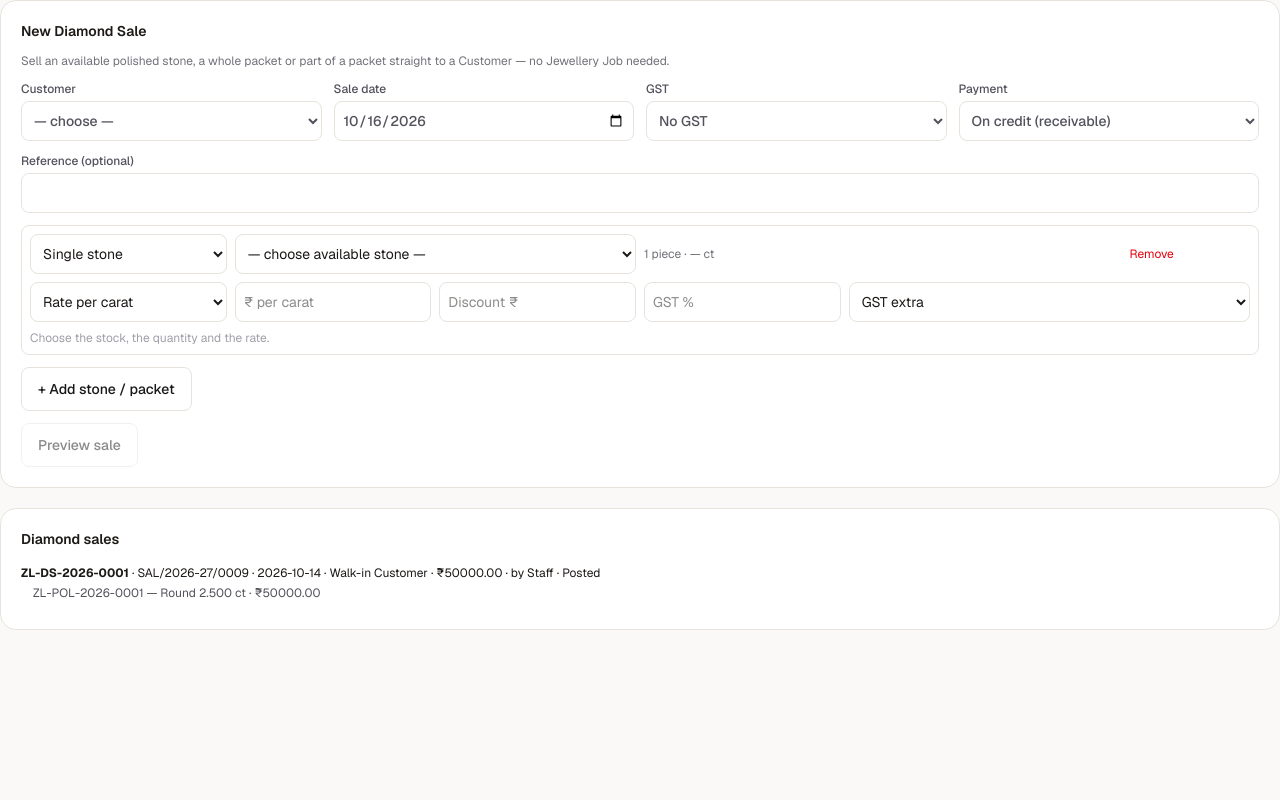
it: Diamond Sales tab › a marketplace Customer disables Paid now and asks for the clearing currency
Select "Etsy (marketplace)" in the dropdown with test id "ds-customer": (171, 121) [21, 101, 322, 141]
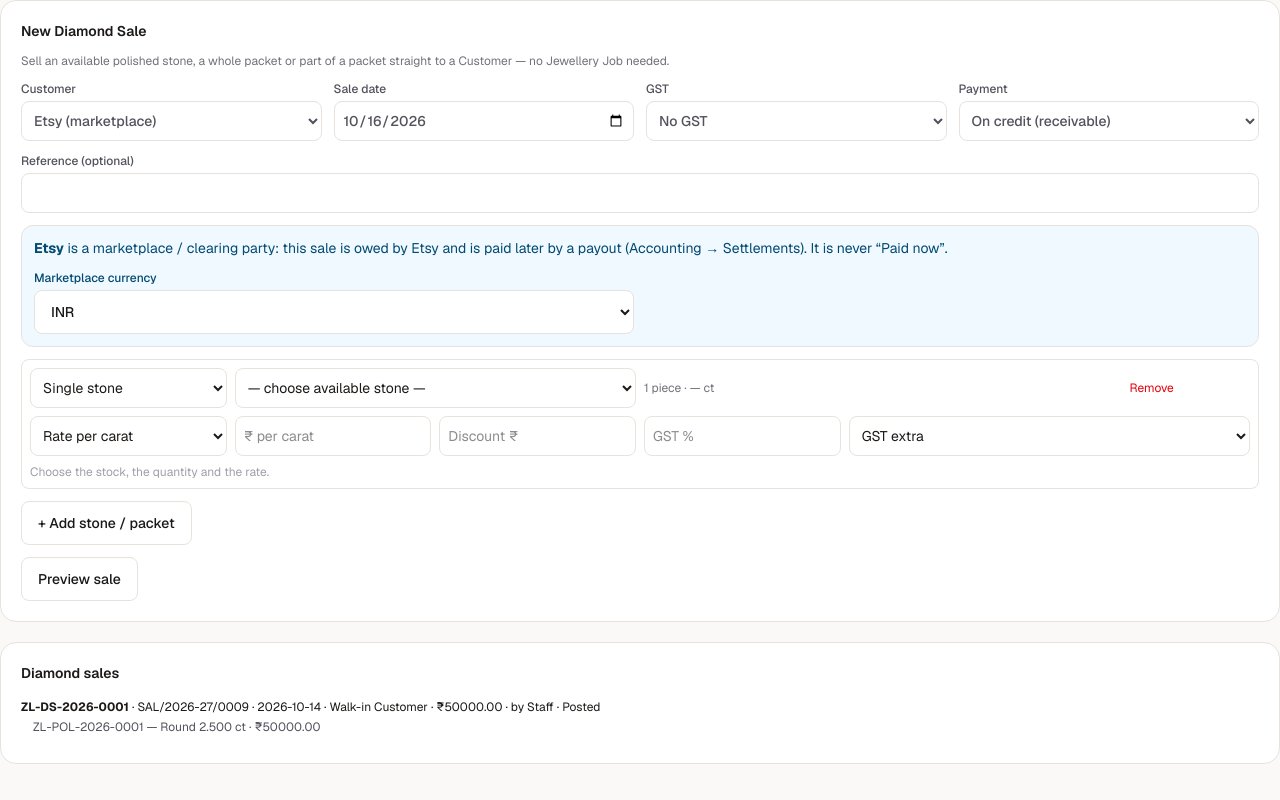
Expected: the dropdown with test id "ds-payment" is disabled, [958, 101, 1259, 141]
Result: the element with test id "clearing-sale-fields" is shown at [21, 225, 1259, 347]
